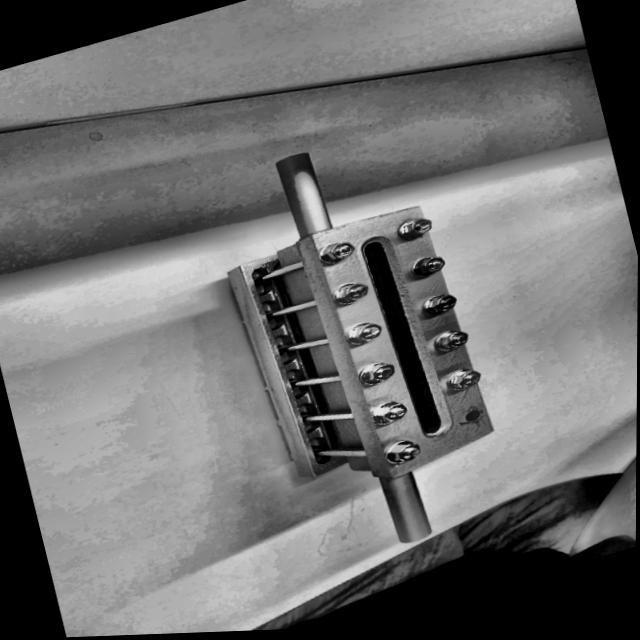ShuiWeiQi_11: (167, 81, 583, 572)
